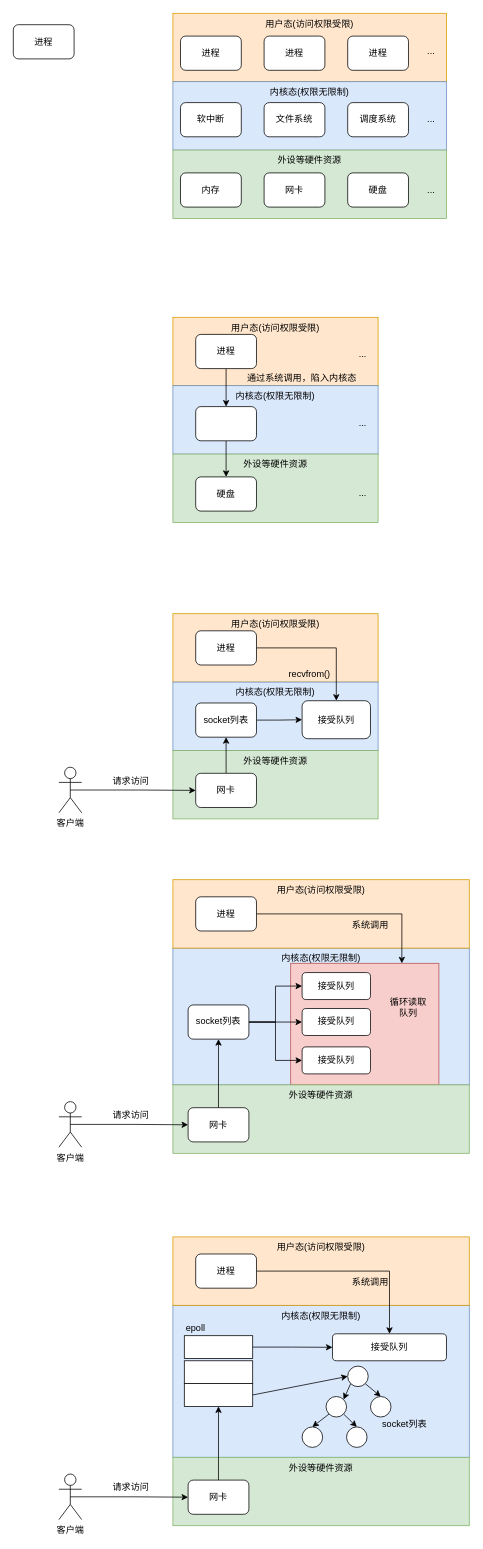
The diagram is 483 pixels wide and 1549 high, and some of its shapes have lost their labels. The centre of each missing label's shape, as x and y in pixels:
"rbr(socket列表)" goes at pixel 218 1394.
"rdllist(就绪列表)" goes at pixel 218 1346.
"wqt阻塞标记列表)" goes at pixel 218 1372.
"文件系统..." goes at pixel 225 423.
